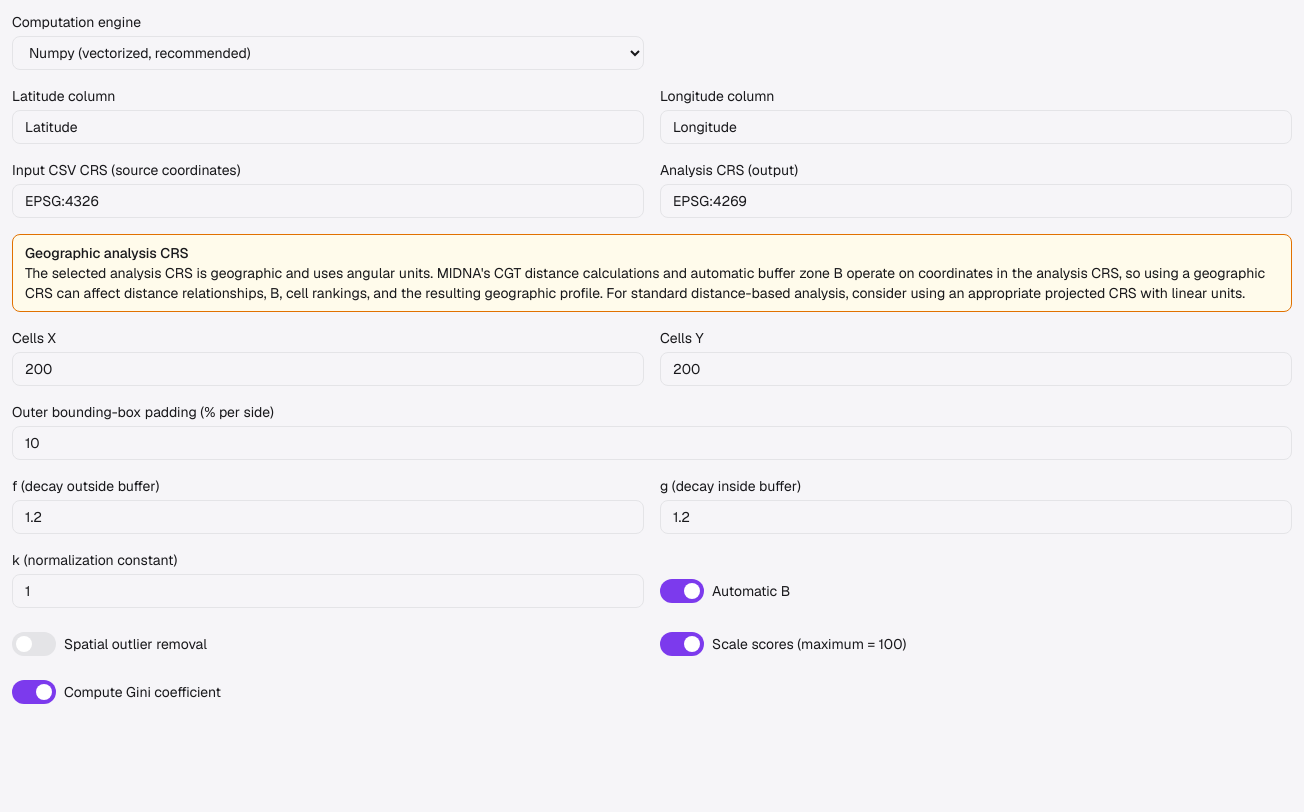
ParamsForm geographic analysis-CRS warning › uses semantic worker inspection for arbitrary geographic and projected CRS values
This screenshot has width=1304, height=812.
Expected: the message shows "Geographic analysis CRS", top-left (25, 244), bottom-right (189, 262)
Replace the text in the field labelled "Analysis CRS (output)" with "EPSG:3857" at (976, 201), box top-left (660, 184), bottom-right (1292, 218)
Wait 250 ms
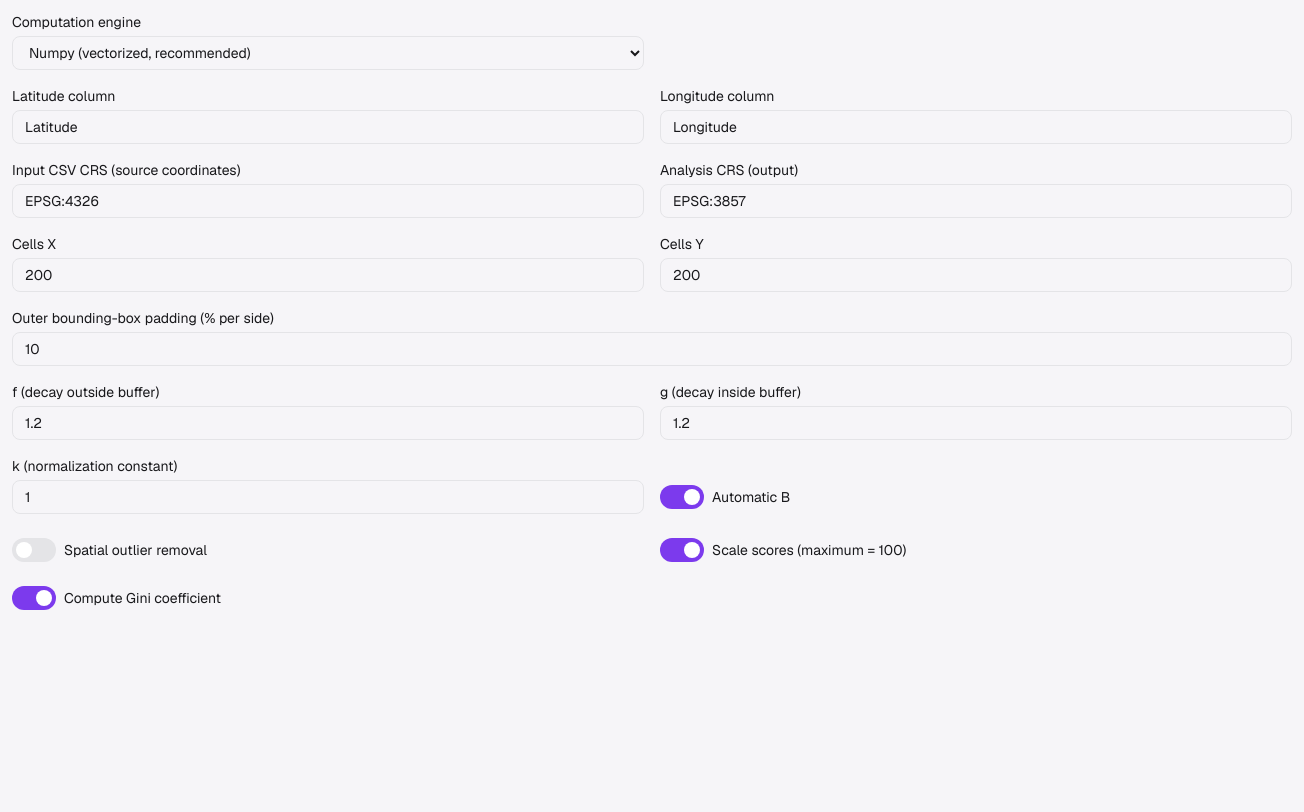
Now the message is gone
